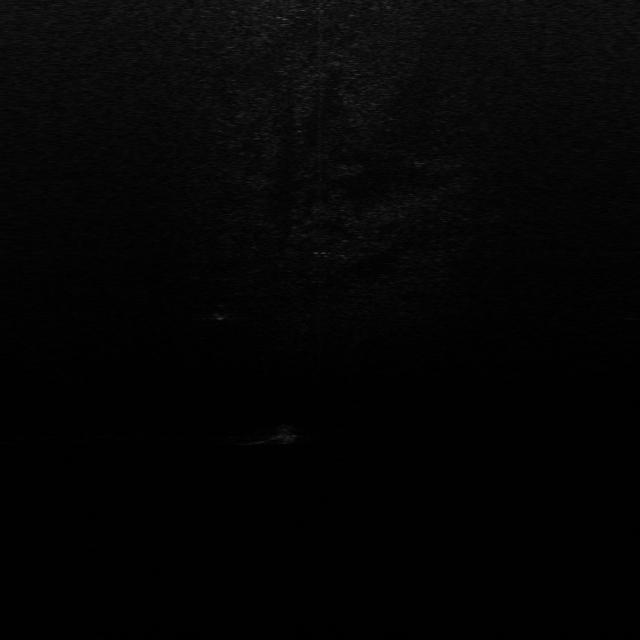circle cage: (270, 421, 300, 444), (209, 304, 232, 322)
